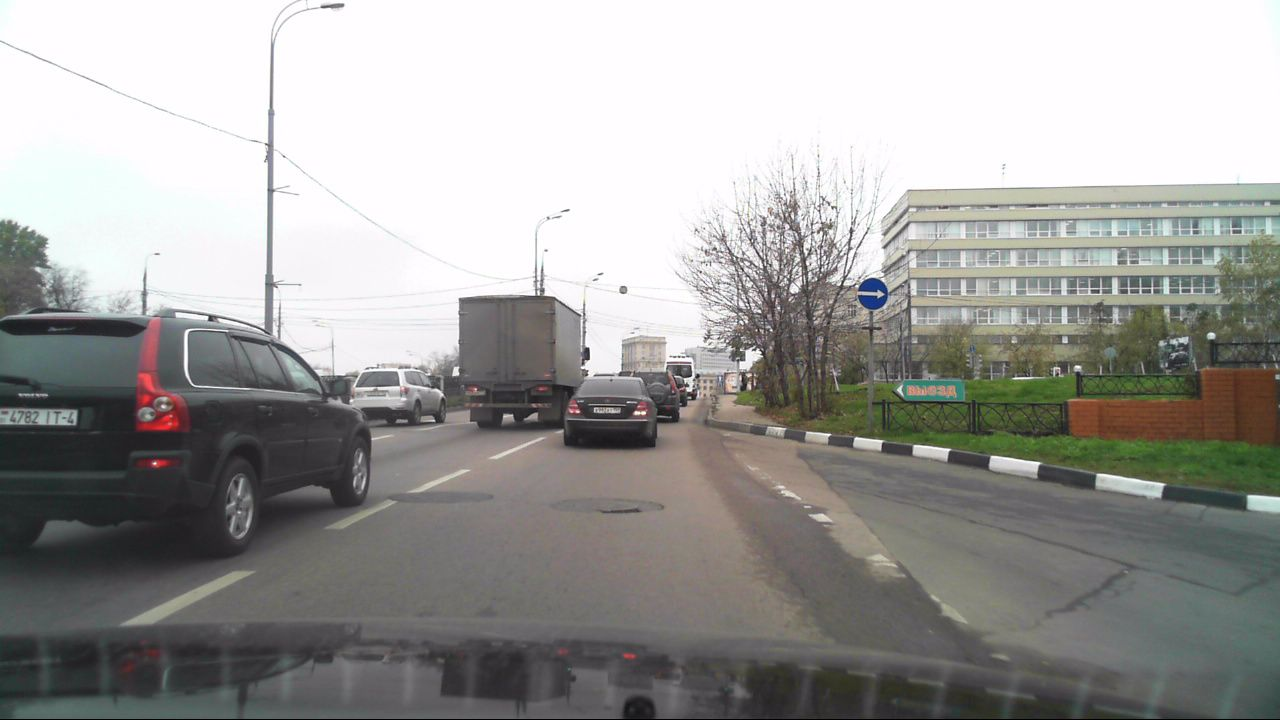Turn Right: (857, 277, 888, 310)
